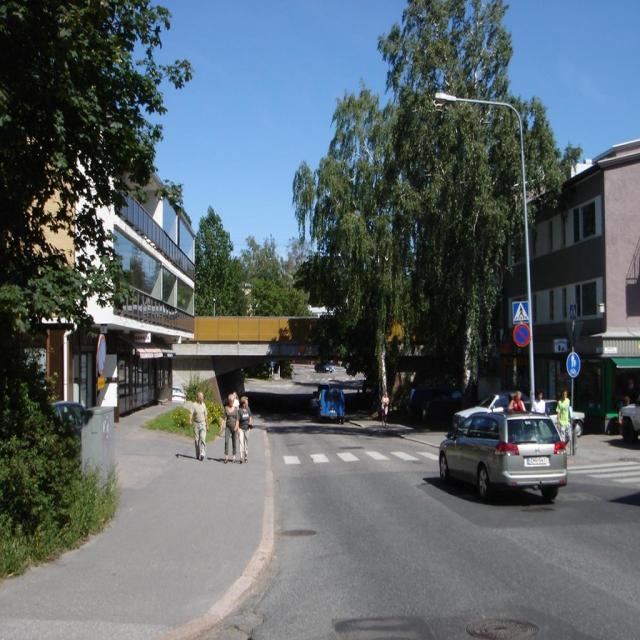car: (435, 397, 574, 503)
